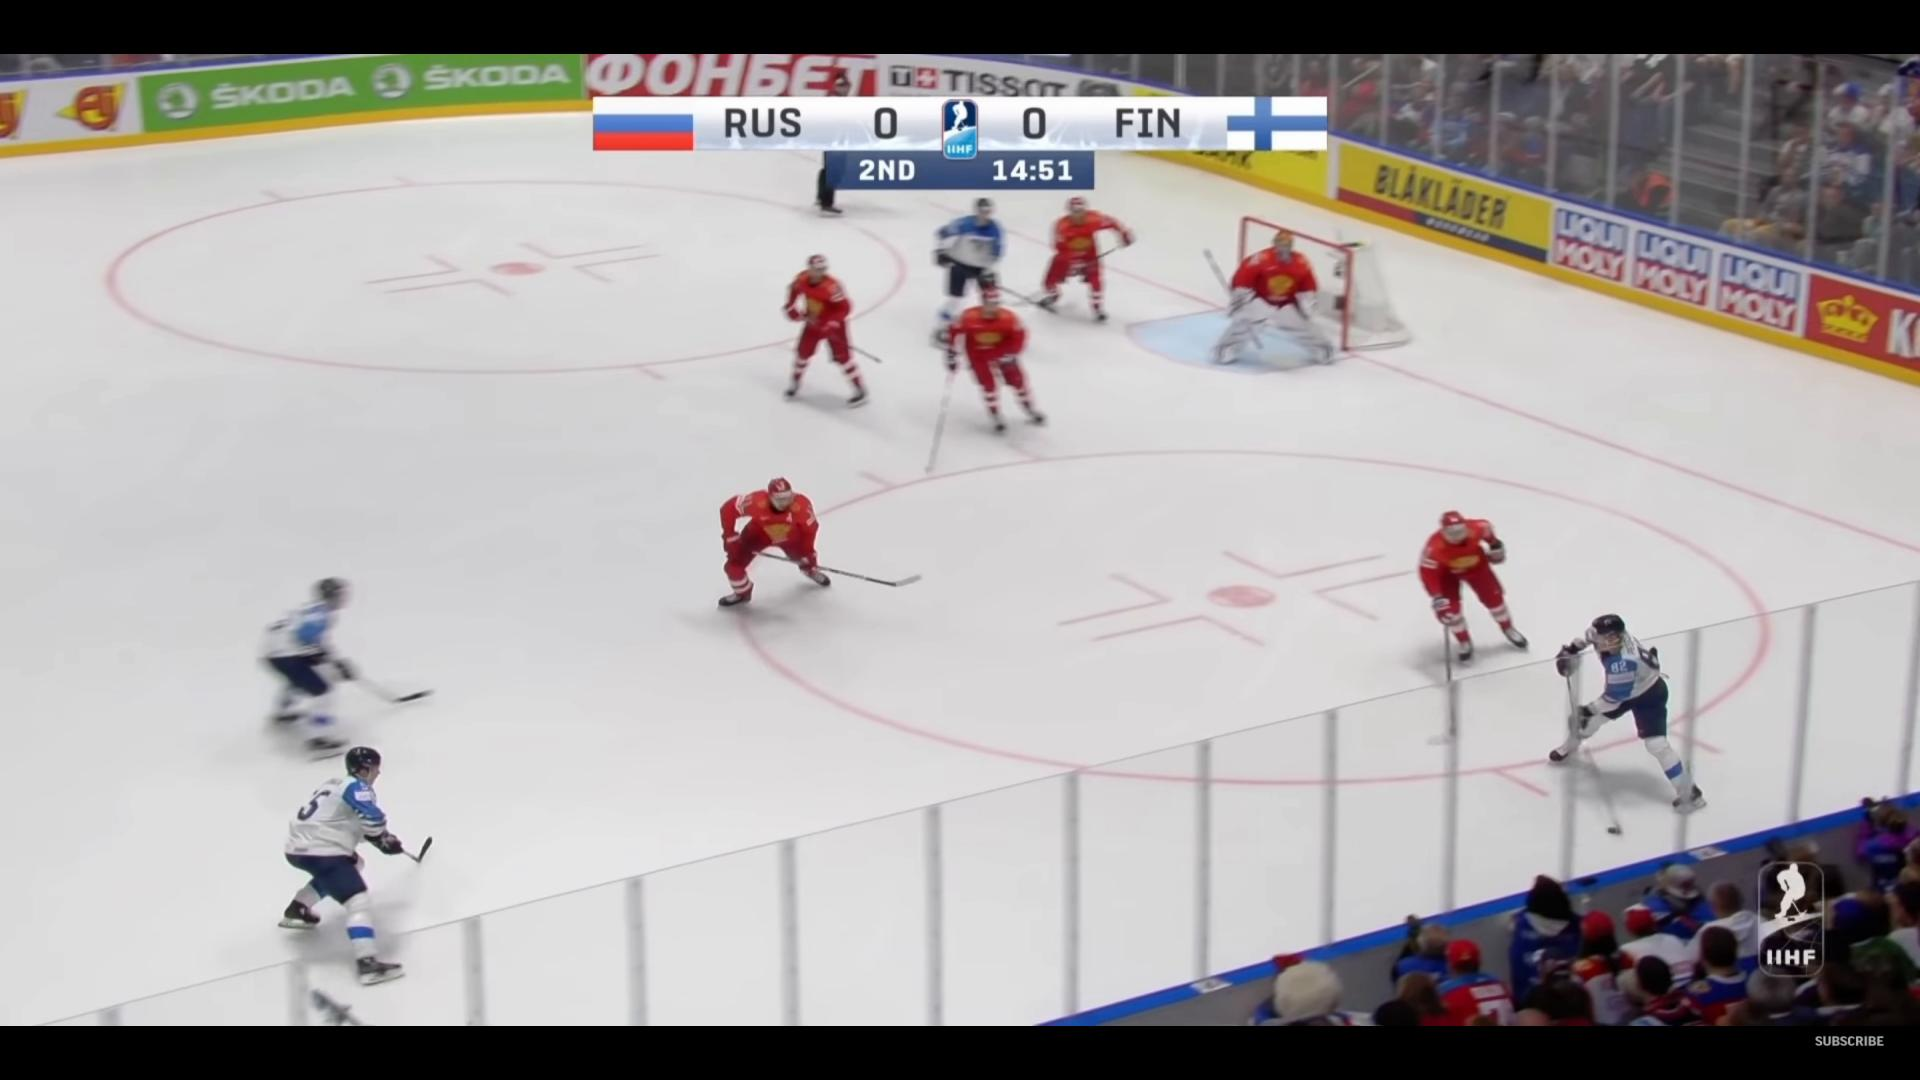puck: (1606, 825, 1617, 833)
